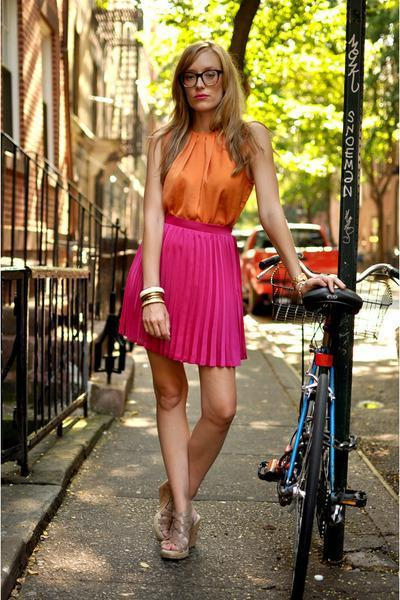shirt: (159, 132, 256, 232)
shoe: (151, 497, 202, 557)
skirt: (119, 221, 249, 370)
